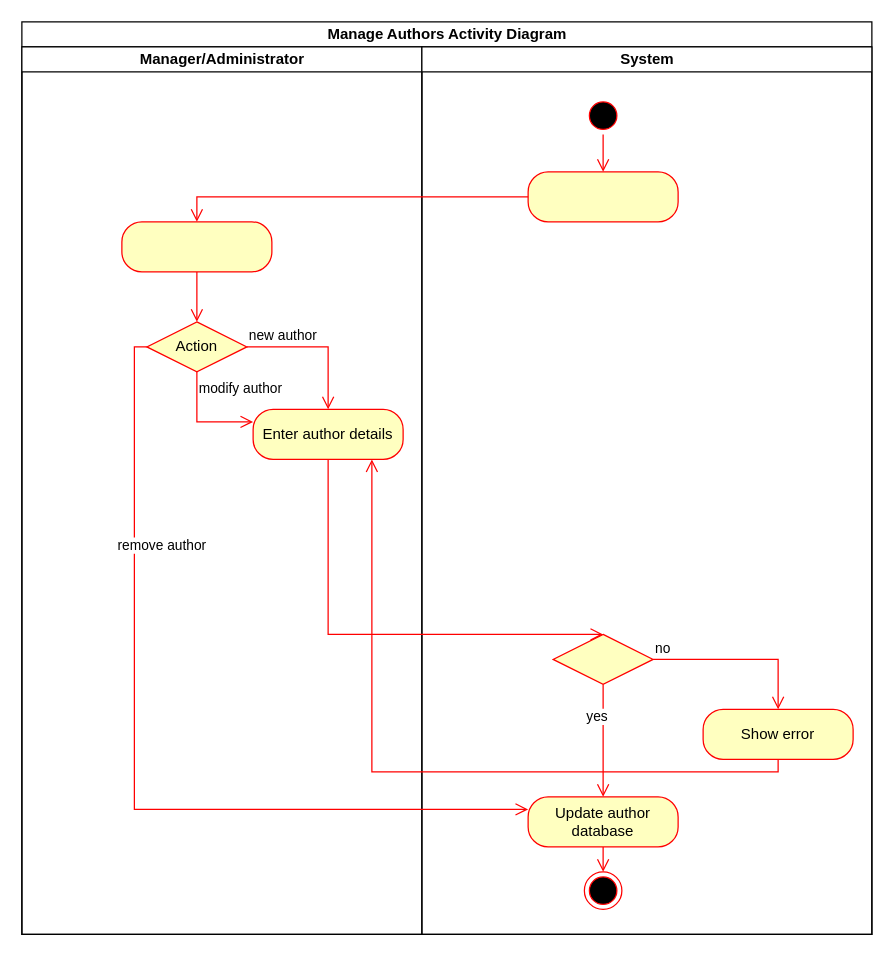
Some shapes in this 894 by 956 pixel diagram are drawn without their labels. The shapes that lost their labels are listed below. From the top down, each one's centre as x and y in pixels, then its label:
(x=602, y=196): List all authors
(x=196, y=246): Select author
(x=602, y=658): Valid input
